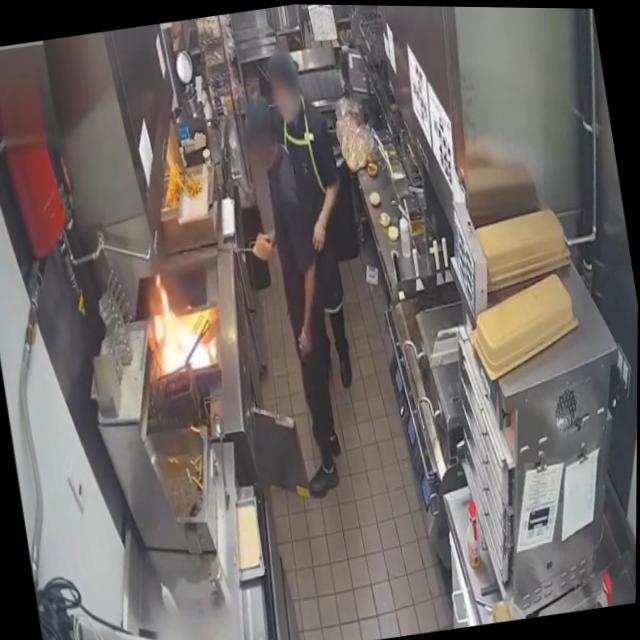fire: (139, 260, 223, 382)
